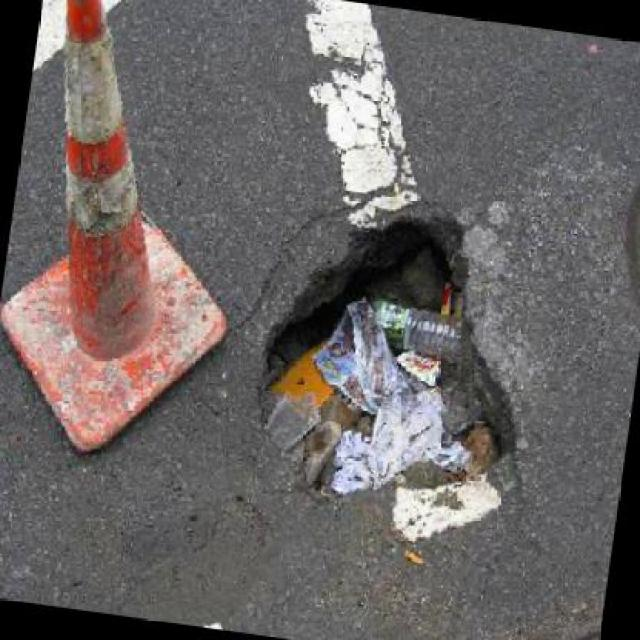pothole1: (237, 185, 548, 524)
